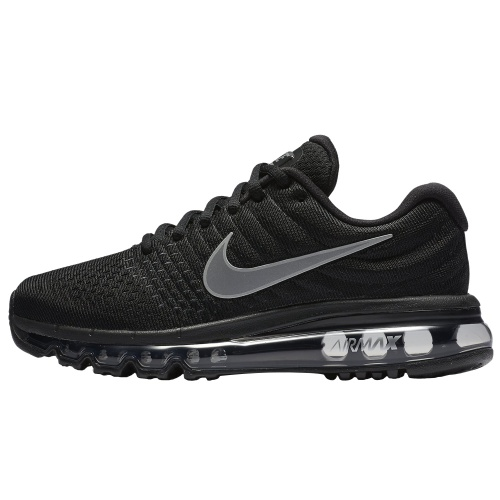nike: (192, 228, 398, 306)
